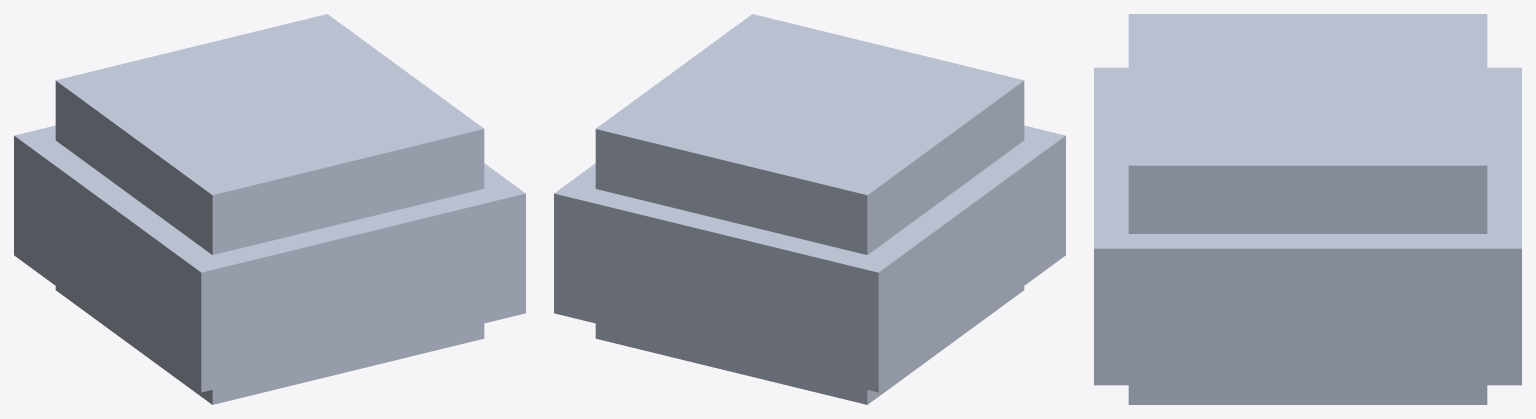
File: hakama_manga_inf.glb
The picture shows the model from 3 angles, left to right: view 1: azimuth 30°, elevation 25°; view 2: azimuth 150°, elevation 25°; view 3: azimuth 270°, elevation 25°; orthographic projection. The views are drawn at different scales.
Parts seen in each view (by area): view 1: hakama_manga_inf; view 2: hakama_manga_inf; view 3: hakama_manga_inf.
Boxes of the visible parts, bbox=[...] form: hakama_manga_inf: bbox=[14, 14, 525, 404]; hakama_manga_inf: bbox=[554, 14, 1065, 404]; hakama_manga_inf: bbox=[1094, 14, 1521, 404].
Size of the model in its own units: 0.34 by 0.21 by 0.34.
